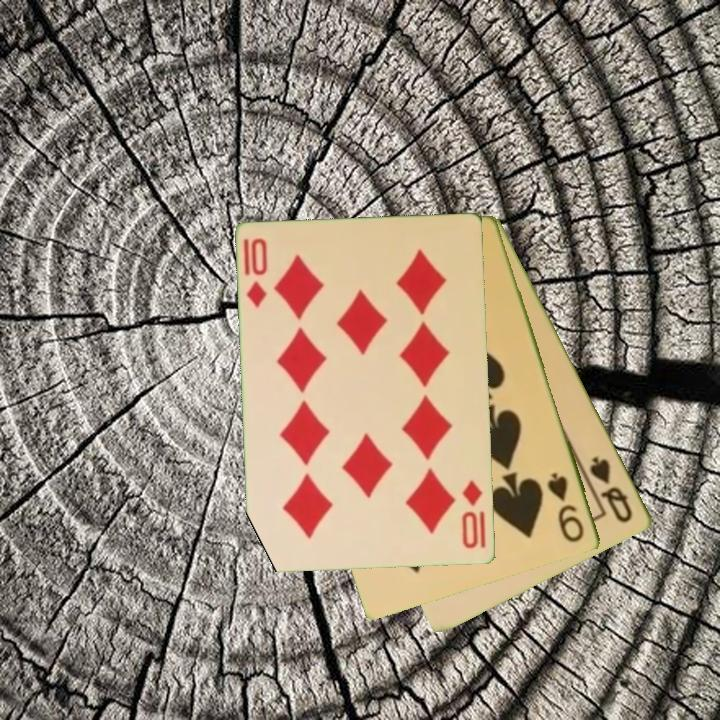10d: (240, 235, 271, 311), (459, 476, 489, 552)
9s: (544, 469, 588, 546)
Qs: (586, 453, 636, 526)
